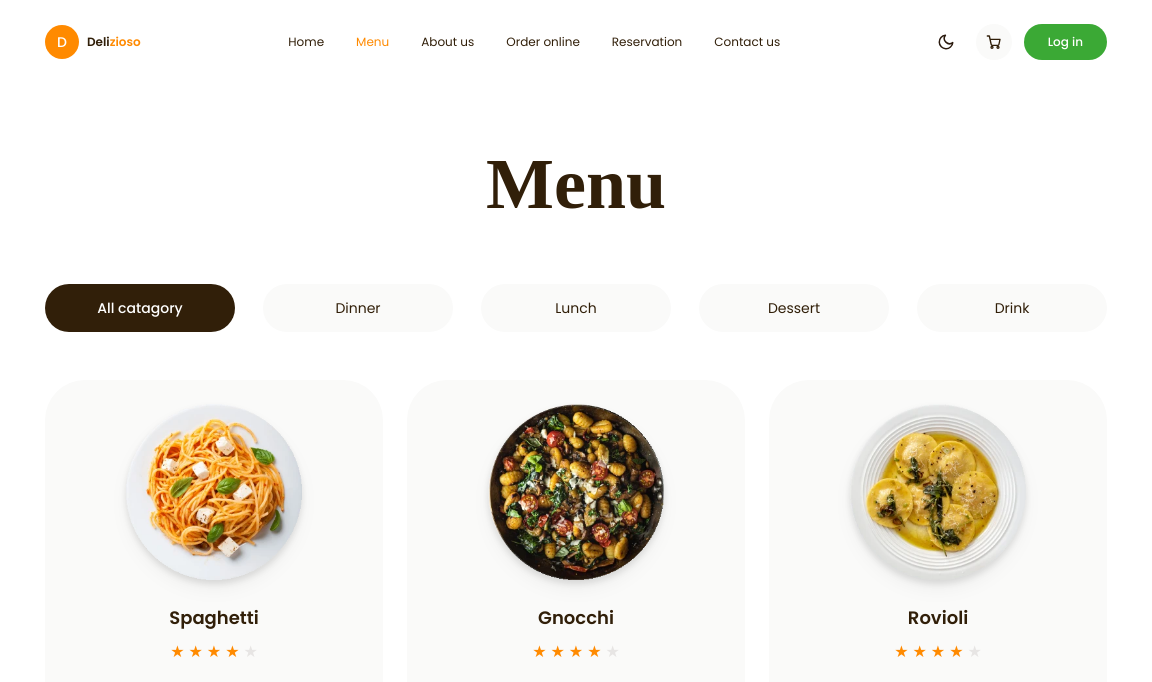
Test case: Menu (issues 5 & 6) › ordering from the dish popup adds the chosen quantity and opens the order list
Click the button "Gnocchi": (576, 518) x1=488 y1=404 x2=664 y2=632
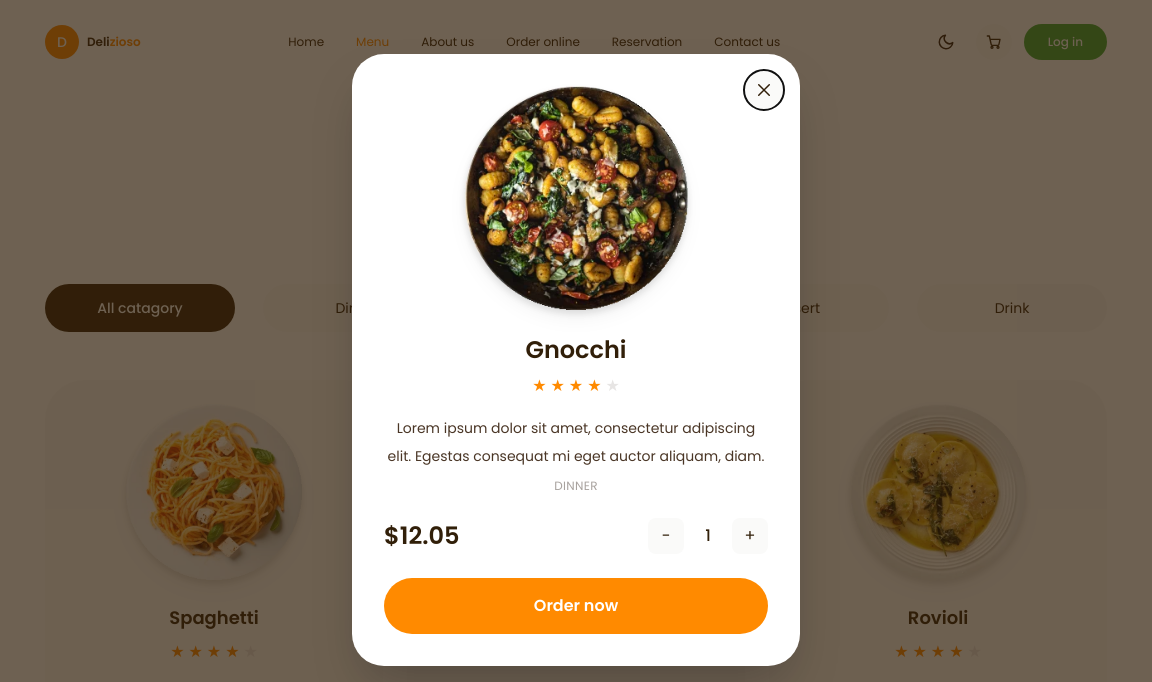
Click the button named "Increase quantity": (750, 536) x1=732 y1=518 x2=768 y2=554
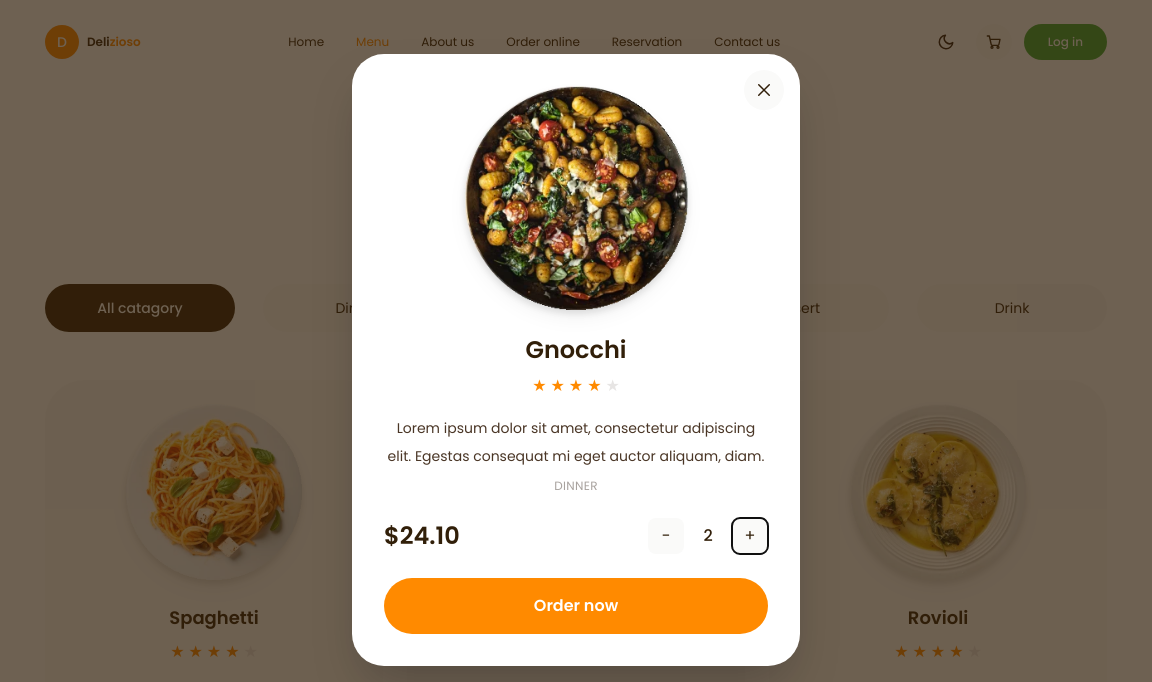
Click the button "Order now": (576, 606) x1=384 y1=578 x2=768 y2=634
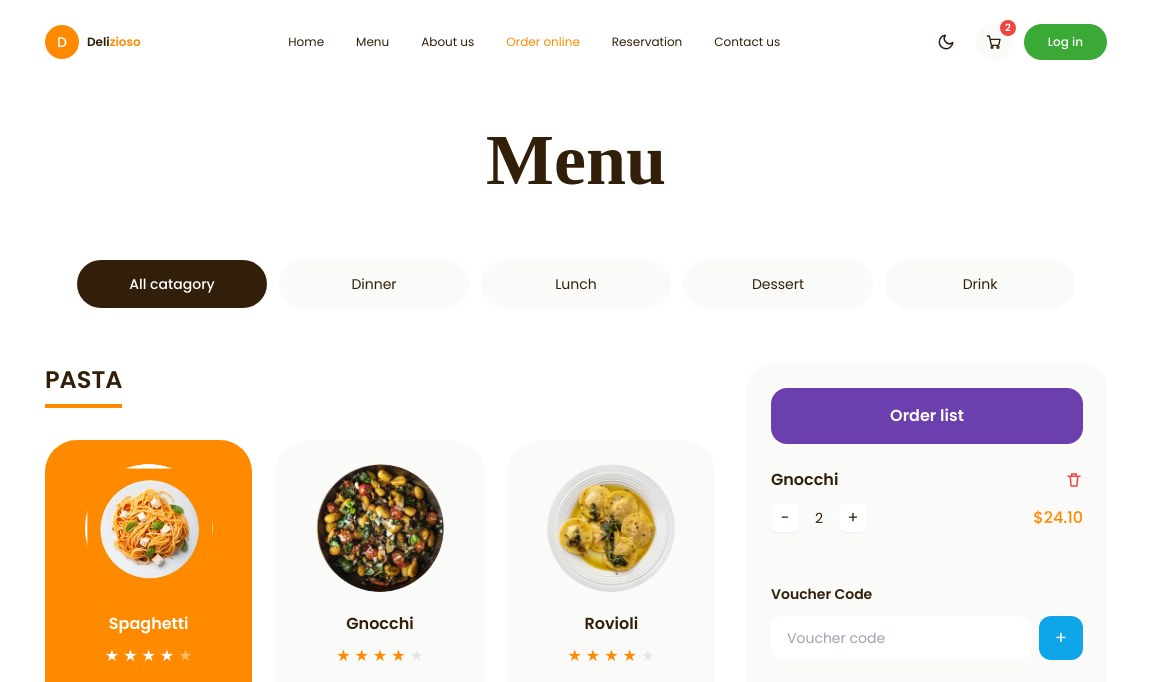
Expected: the text named "Gnocchi quantity" reads "2", x1=815 y1=508 x2=823 y2=528
